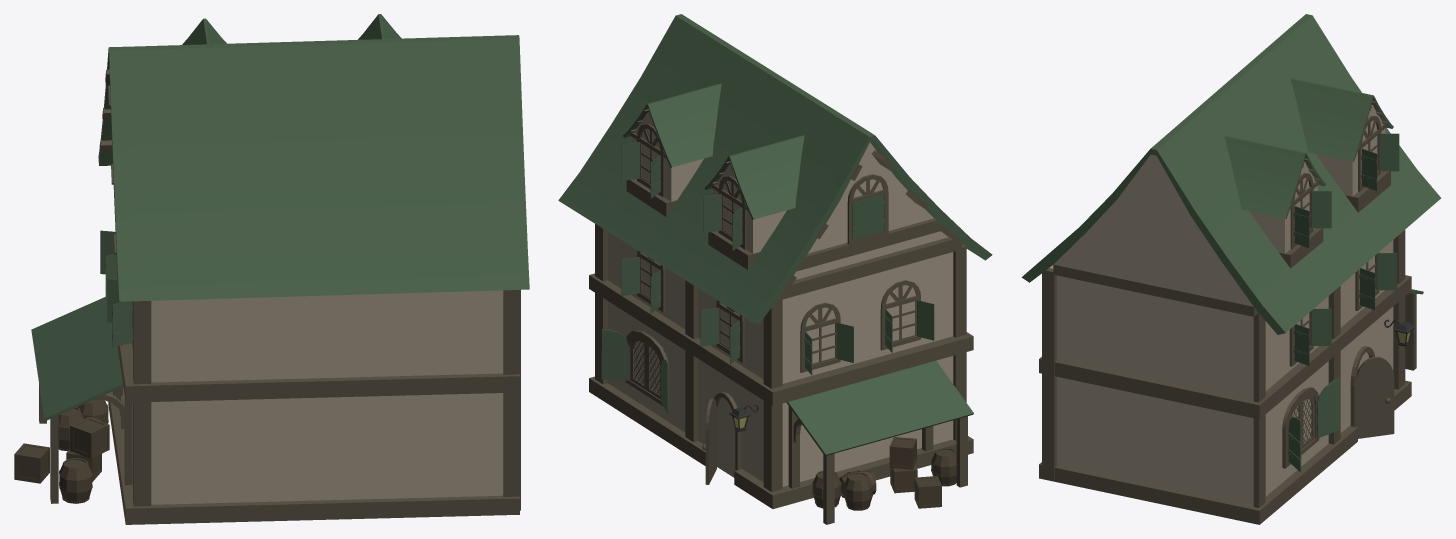
Rendered from House_5.fbx.
3 views of the same model, side by side, from view 1: azimuth 30°, elevation 25°; view 2: azimuth 150°, elevation 25°; view 3: azimuth 270°, elevation 25° (orthographic). The views are drawn at different scales.
Visible parts, largest first — view 1: house_5, Window_Shutters_63; view 2: house_5, Window_Shutters_55, door, Window_Shutters_58, Window_Shutters_67, Window_Shutters_56, Window_Shutters_65, Window_Shutters_63, Window_Shutters_61, Window_Shutters_68, Window_Shutters_69; view 3: house_5, door, Window_Shutters_54, Window_Shutters_64, Window_Shutters_59, Window_Shutters_66, Window_Shutters_57, Window_Shutters_55, Window_Shutters_65, Window_Shutters_58, Window_Shutters_67, Window_Shutters_56.
Boxes of the visible parts, <box> form: house_5: <box>14,14,529,524</box>; Window_Shutters_63: <box>112,301,132,347</box>; house_5: <box>558,14,992,524</box>; Window_Shutters_55: <box>601,329,628,380</box>; door: <box>702,398,716,484</box>; Window_Shutters_58: <box>700,307,718,346</box>; Window_Shutters_67: <box>621,142,639,181</box>; Window_Shutters_56: <box>621,257,639,295</box>; Window_Shutters_65: <box>703,194,721,233</box>; Window_Shutters_63: <box>917,300,934,340</box>; Window_Shutters_61: <box>837,322,853,362</box>; Window_Shutters_68: <box>852,199,868,239</box>; Window_Shutters_69: <box>868,194,884,234</box>; house_5: <box>1021,14,1441,524</box>; door: <box>1356,356,1394,438</box>; Window_Shutters_54: <box>1316,378,1339,438</box>; Window_Shutters_64: <box>1379,133,1399,171</box>; Window_Shutters_59: <box>1377,253,1397,290</box>; Window_Shutters_66: <box>1312,191,1331,228</box>; Window_Shutters_57: <box>1312,308,1331,345</box>; Window_Shutters_55: <box>1288,417,1301,472</box>; Window_Shutters_65: <box>1361,148,1377,190</box>; Window_Shutters_58: <box>1359,268,1375,310</box>; Window_Shutters_67: <box>1293,206,1309,248</box>; Window_Shutters_56: <box>1293,324,1309,365</box>.
Bounding box in the file's own units: 1050 × 872 × 924.
